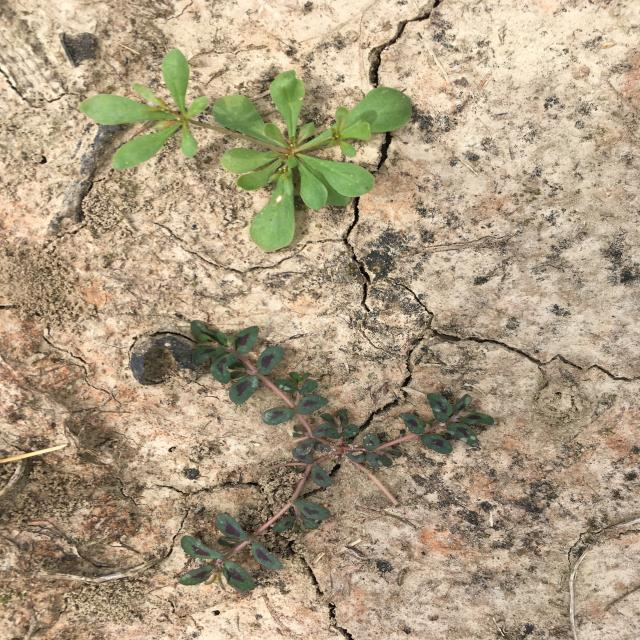Carpetweed: (79, 48, 412, 252)
SpottedSpurge: (179, 320, 495, 592)
